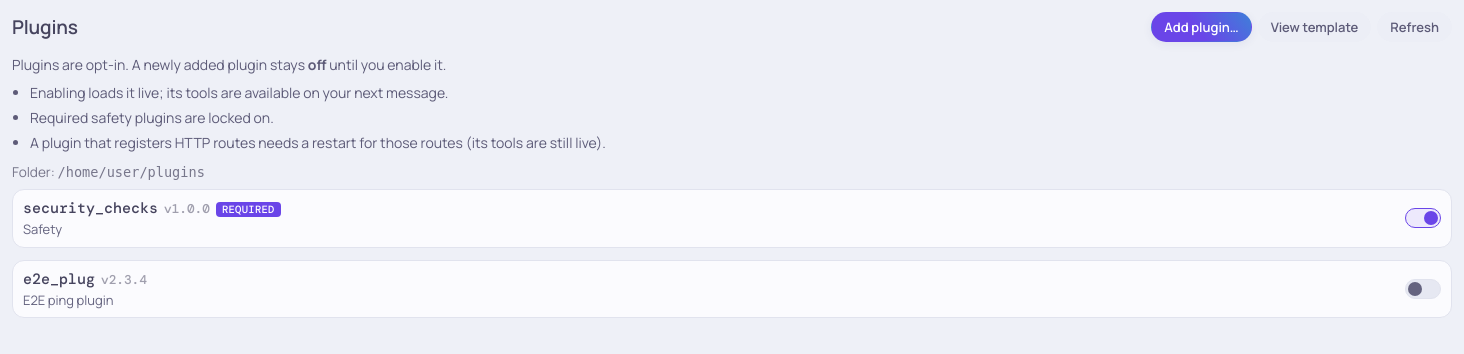
Test: PluginsPanel › enables a plugin live and shows its tools after refetch
Expected: the text "e2e_plug" is shown, [23,268,95,288]
// Flip the non-protected switch on.
Step 1. Click the checkbox named "Enable: load this plugin now (its tools are available next m" → (1423, 289), box [1405,279,1441,299]
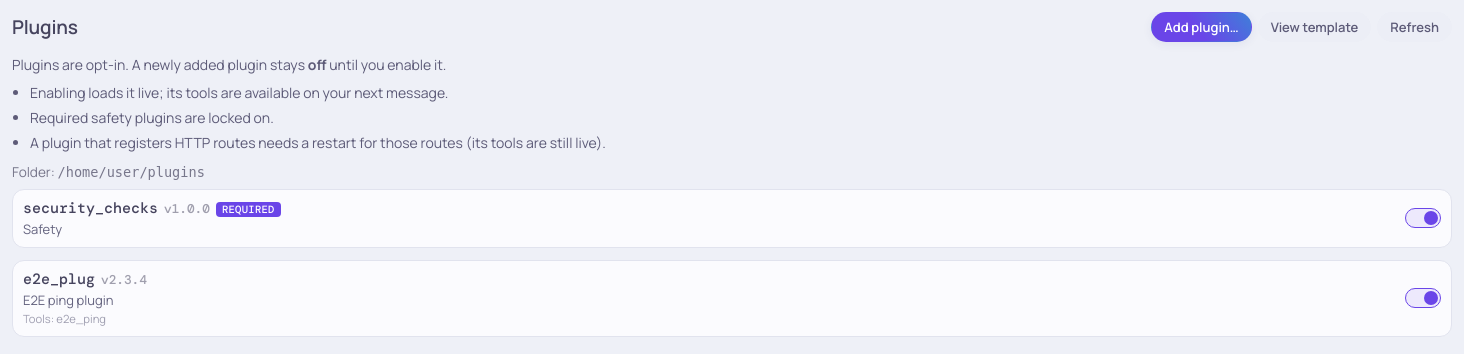
Expected: the text "Tools: e2e_ping" is shown, [23,311,106,326]
